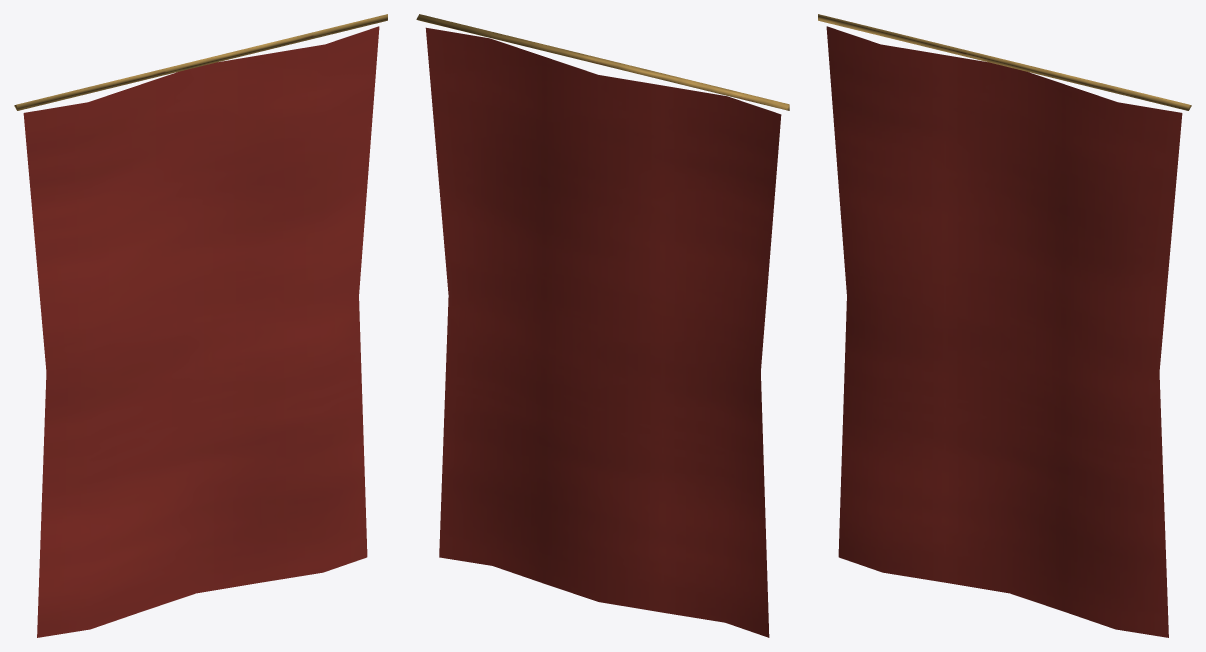
File: Curtain_Drape_1_LOD2.gltf
3 views of the same model, side by side, from view 1: azimuth 30°, elevation 25°; view 2: azimuth 150°, elevation 25°; view 3: azimuth 330°, elevation 25° (orthographic).
Parts seen in each view (by area): view 1: Curtain_Drape_1_LOD2; view 2: Curtain_Drape_1_LOD2; view 3: Curtain_Drape_1_LOD2.
Boxes of the visible parts, x1,y1,x2,y2 form: Curtain_Drape_1_LOD2: (14,14,387,637); Curtain_Drape_1_LOD2: (416,14,789,637); Curtain_Drape_1_LOD2: (818,14,1191,637).
Size of the model in its own units: 2.5 by 3.47 by 0.1236.
Materials: 2 (2 with a texture image).
